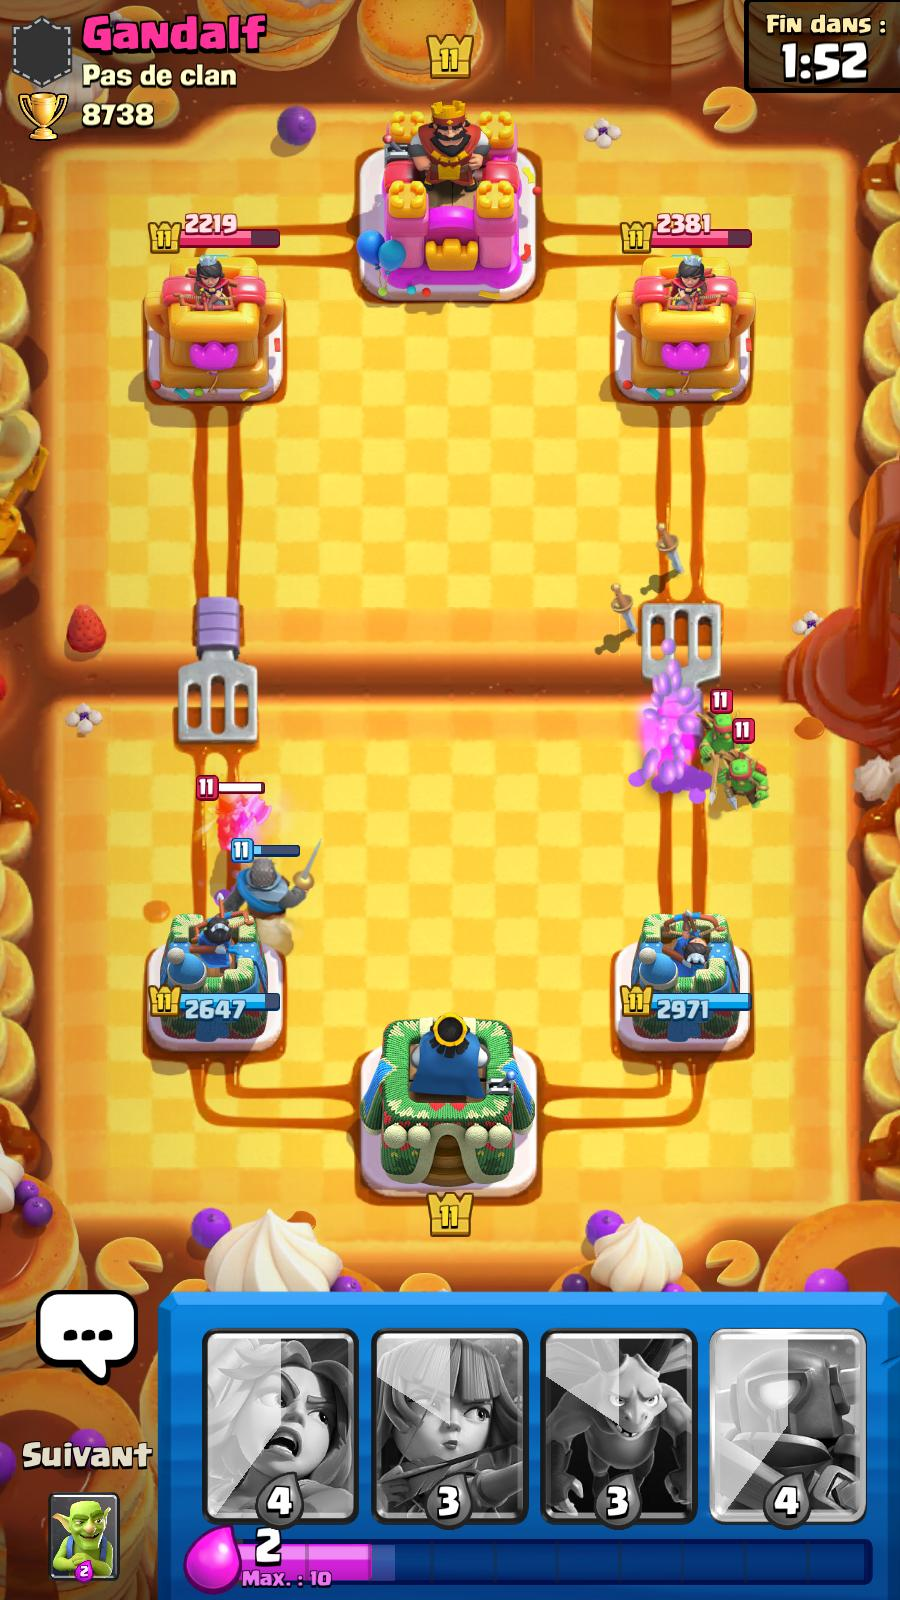chevalier: (219, 841, 325, 924)
gobelin_lances: (695, 690, 751, 766), (711, 743, 770, 811)
valkyrie: (195, 773, 267, 854)
